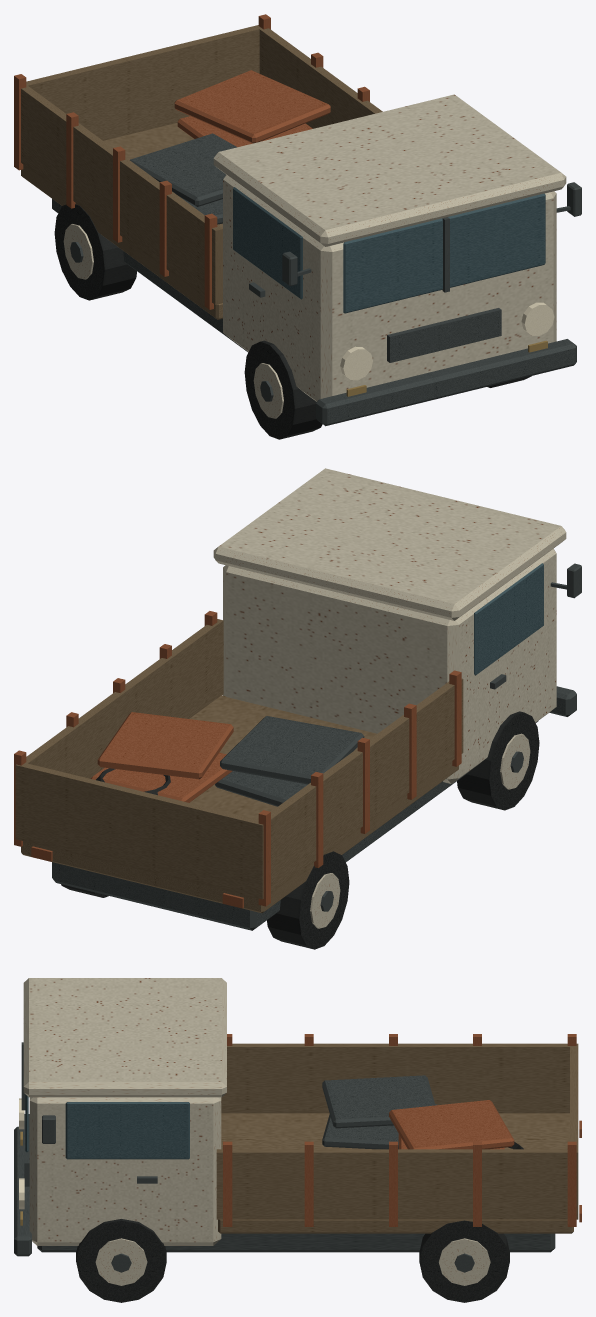
The model's file is CompactDeliveryTruck.fbx.
The picture shows the model from 3 angles, top to bottom: view 1: azimuth 30°, elevation 25°; view 2: azimuth 150°, elevation 25°; view 3: azimuth 270°, elevation 25°; orthographic projection. The views are drawn at different scales.
Parts seen in each view (by area): view 1: CompactDeliveryTruck; view 2: CompactDeliveryTruck; view 3: CompactDeliveryTruck.
Boxes of the visible parts, x1,y1,x2,y2 form: CompactDeliveryTruck: (14, 14, 581, 439); CompactDeliveryTruck: (14, 468, 581, 949); CompactDeliveryTruck: (14, 978, 581, 1302).
Bounding box in the file's own units: 236 × 186 × 439.
1 material, 1 textured.
